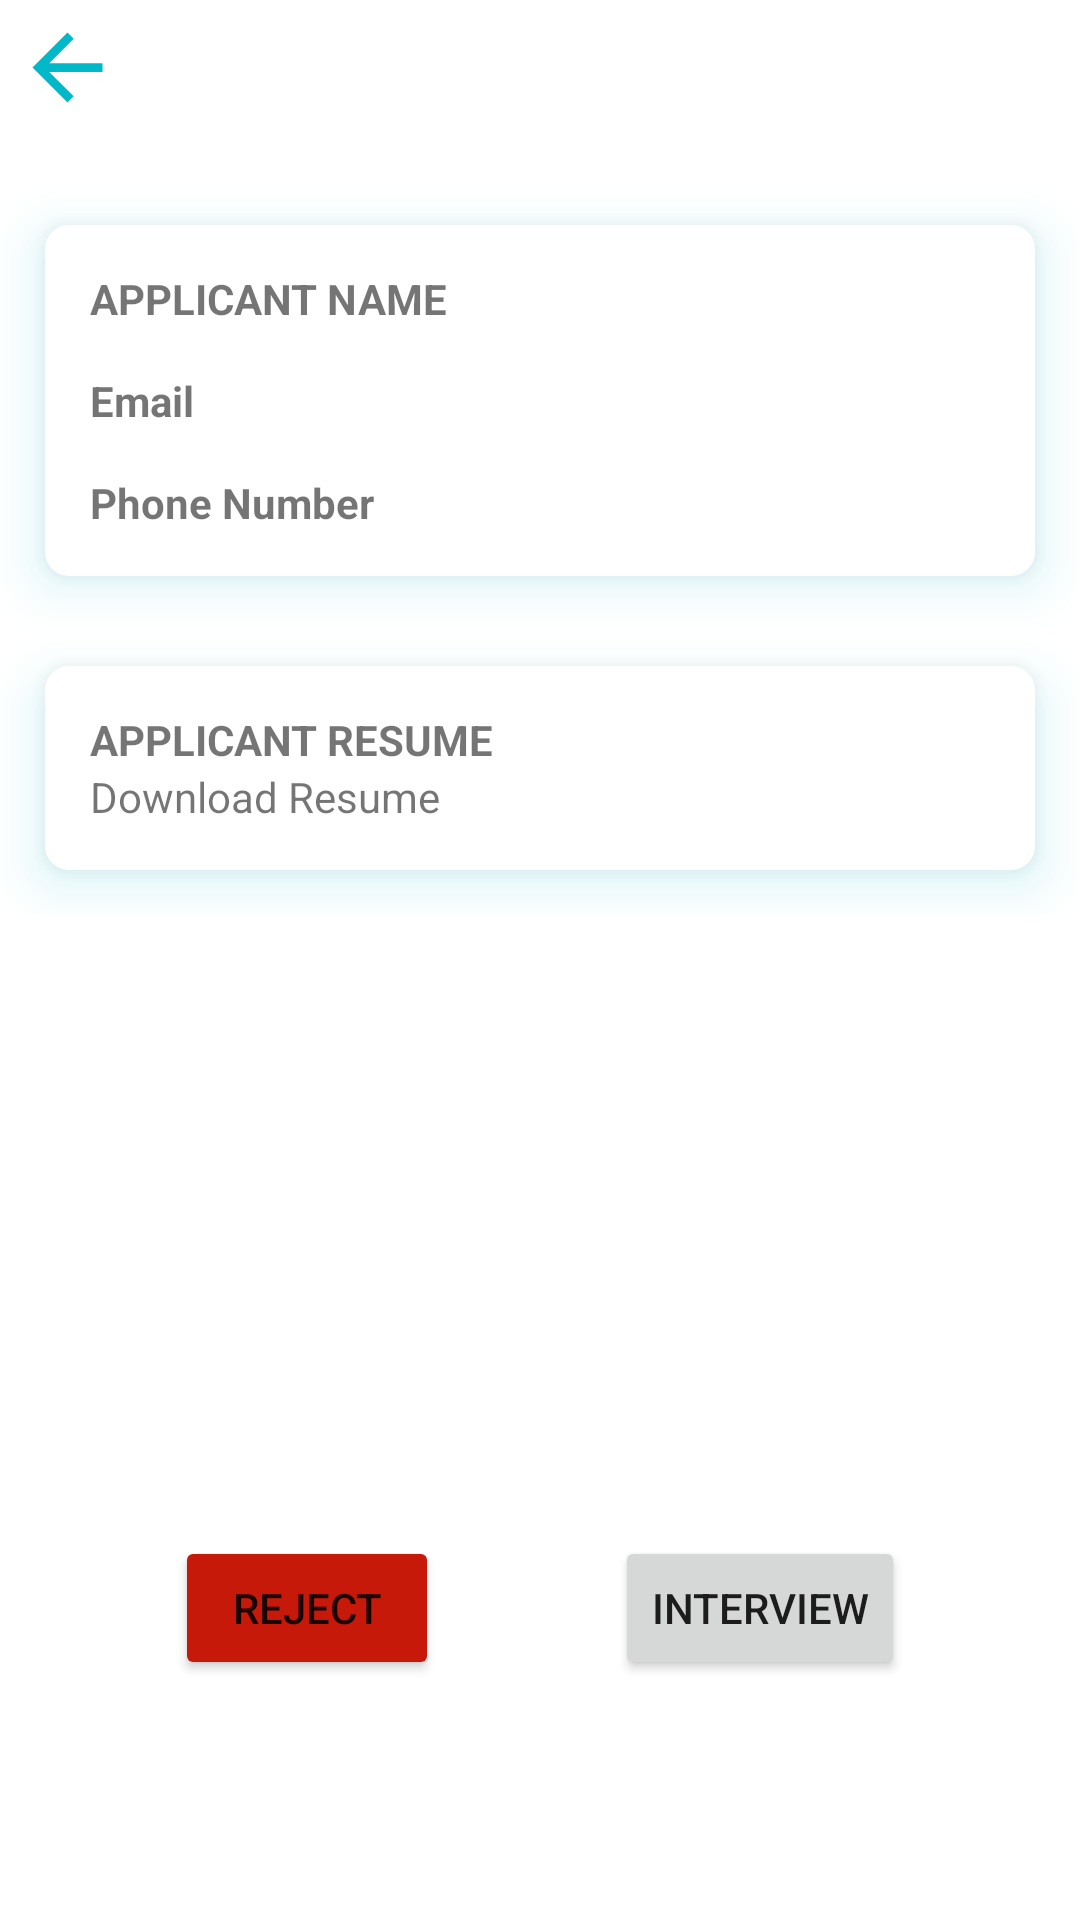

Named icons in this screenshot (1080x1920) and their centers, (x,y):
arrow back: (67,67)
